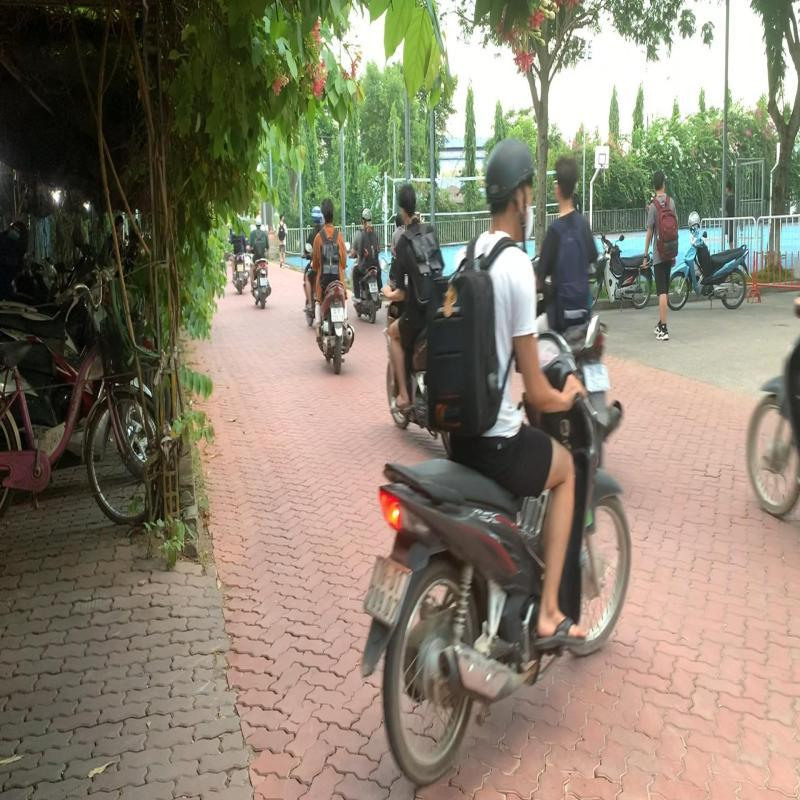nohelmet: (396, 180, 420, 224), (320, 194, 336, 224)
